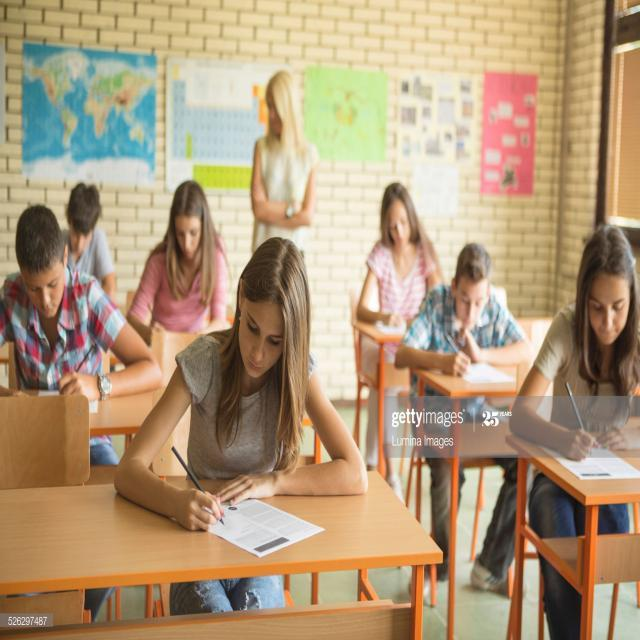good: (94, 235, 385, 550), (486, 207, 640, 501), (0, 189, 173, 407), (390, 236, 547, 400), (117, 170, 242, 354)
